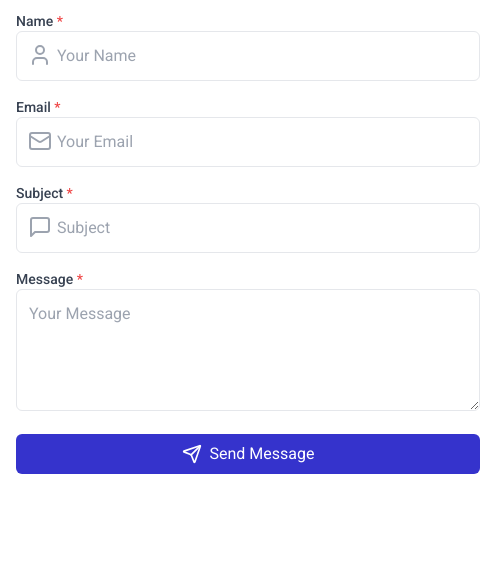
Test: EmailForm Component › validates empty fields
Click the button "Send Message" at [248, 454], box top-left (16, 434), bottom-right (480, 474)
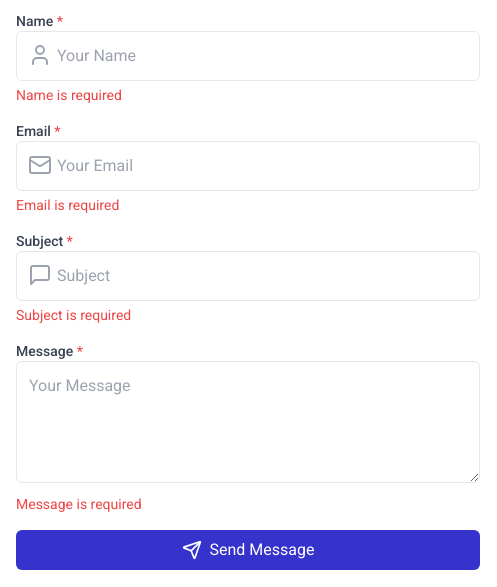
Expected: the text "Name is required" is shown, top-left (16, 87), bottom-right (122, 103)
Expected: the text "Email is required" is shown, top-left (16, 197), bottom-right (119, 213)
Expected: the text "Subject is required" is shown, top-left (16, 307), bottom-right (131, 323)
